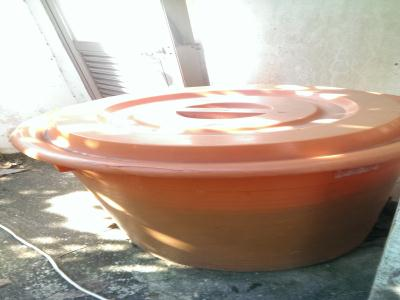bucket: (6, 81, 400, 275)
